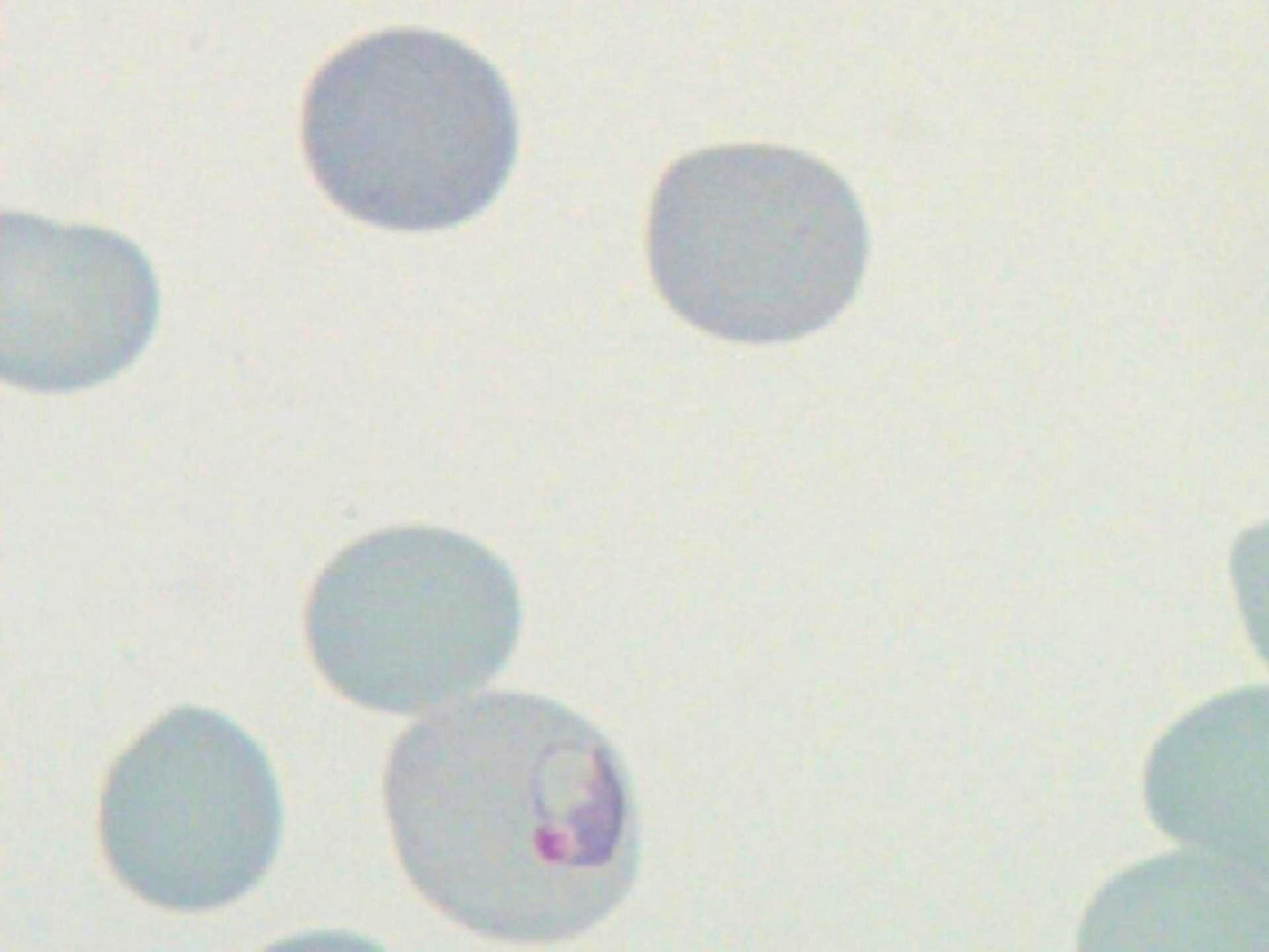Infected: (383, 692, 637, 939)
Uninfected: (652, 142, 861, 350), (304, 29, 514, 231), (93, 708, 282, 914), (311, 525, 518, 711), (0, 210, 160, 408)
